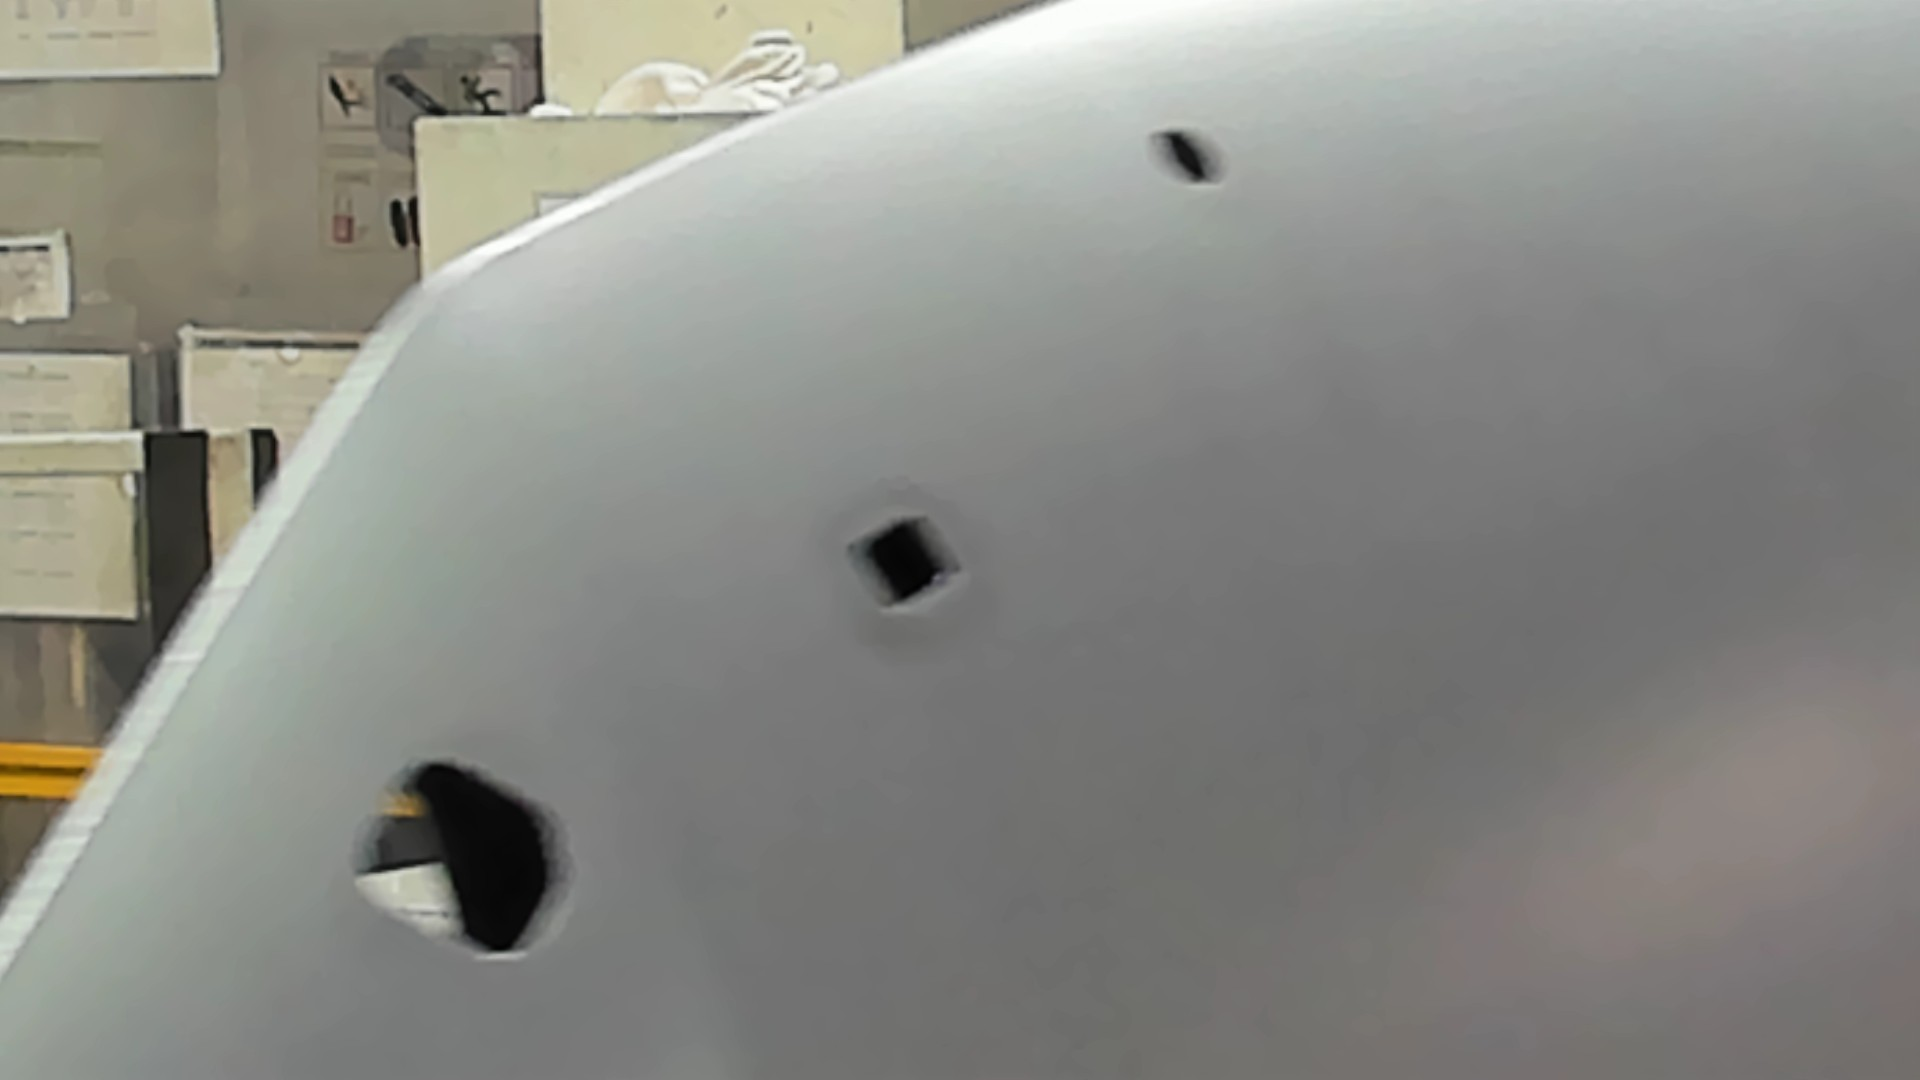chico: (1142, 117, 1228, 196)
grande: (343, 753, 579, 973)
mediano: (843, 509, 968, 617)
